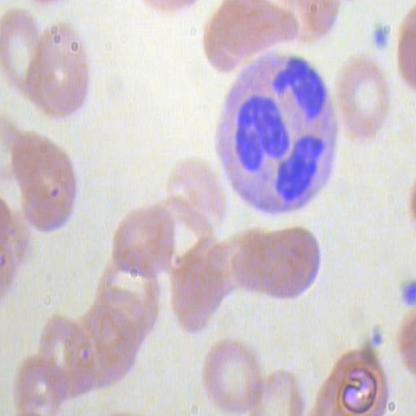Platelets: (370, 17, 392, 53), (399, 277, 415, 307)
RBC: (4, 126, 82, 236), (328, 56, 396, 147), (108, 200, 178, 285), (254, 219, 324, 304), (36, 24, 94, 125), (34, 311, 98, 402), (0, 5, 55, 107), (196, 336, 265, 416), (162, 160, 226, 244)
WBC: (211, 48, 343, 225)
